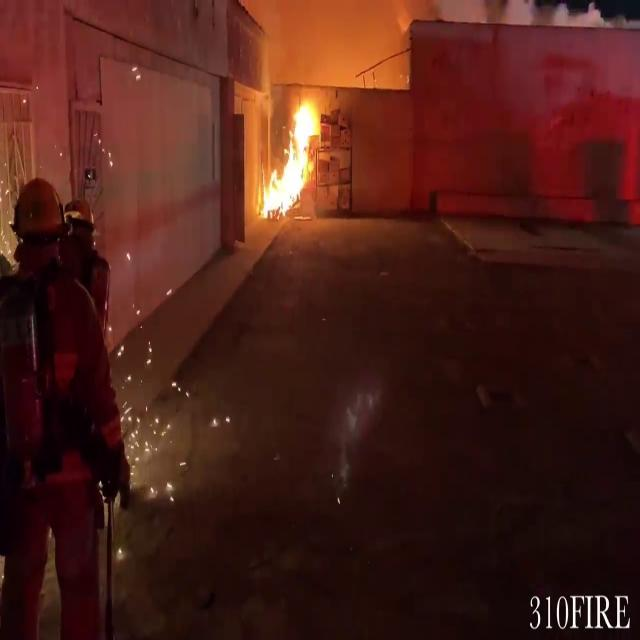Fire: (256, 90, 328, 221)
